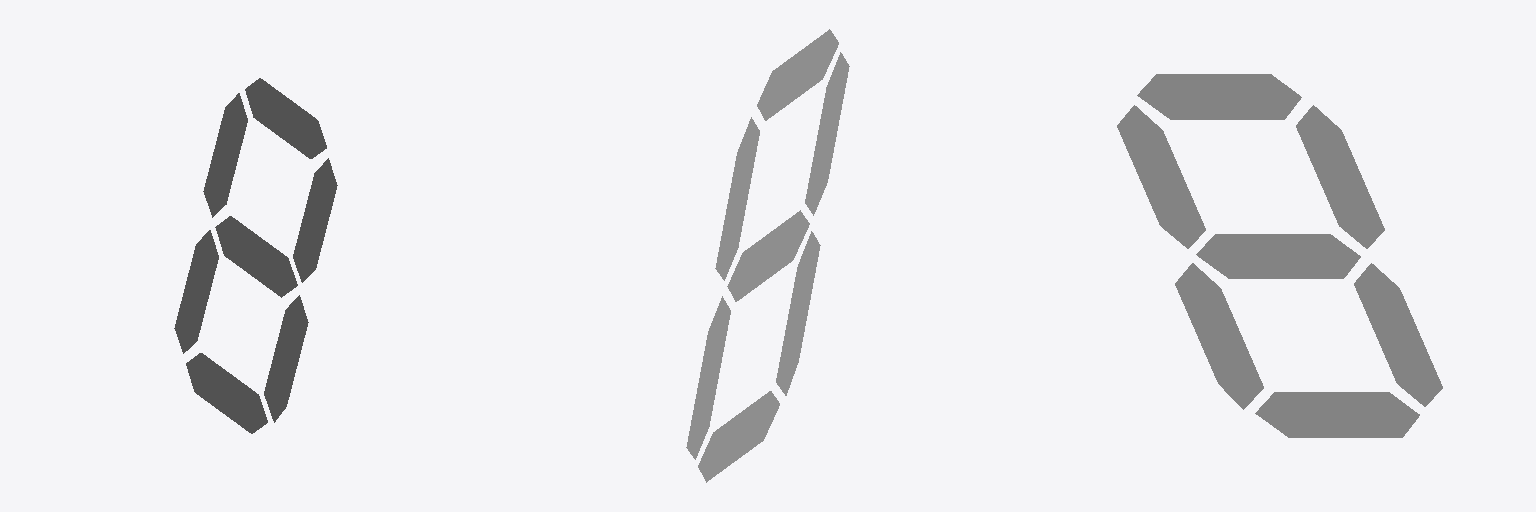
File: lcd.obj
3 renders of one model, left to right at view 1: azimuth 30°, elevation 25°; view 2: azimuth 150°, elevation 25°; view 3: azimuth 270°, elevation 25°, orthographic.
Visible parts, largest first — view 1: Center_Mesh.002, Top_Mesh, Bottom_Mesh.003, BottomRight_Mesh.006, TopRight_Mesh.005, TopLeft_Mesh.004, BottomLeft_Mesh.001; view 2: Center_Mesh.002, Top_Mesh, Bottom_Mesh.003, BottomRight_Mesh.006, TopLeft_Mesh.004, TopRight_Mesh.005, BottomLeft_Mesh.001; view 3: Top_Mesh, Bottom_Mesh.003, Center_Mesh.002, BottomRight_Mesh.006, TopLeft_Mesh.004, BottomLeft_Mesh.001, TopRight_Mesh.005.
Part boxes in pixels (left/top/right/bottom): Center_Mesh.002: left=215, top=216, right=297, bottom=297; Top_Mesh: left=245, top=78, right=326, bottom=158; Bottom_Mesh.003: left=186, top=353, right=267, bottom=433; BottomRight_Mesh.006: left=264, top=295, right=308, bottom=422; TopRight_Mesh.005: left=293, top=158, right=337, bottom=282; TopLeft_Mesh.004: left=203, top=93, right=247, bottom=217; BottomLeft_Mesh.001: left=174, top=230, right=218, bottom=353; Center_Mesh.002: left=727, top=210, right=809, bottom=301; Top_Mesh: left=757, top=29, right=838, bottom=120; Bottom_Mesh.003: left=698, top=391, right=779, bottom=482; BottomRight_Mesh.006: left=776, top=231, right=820, bottom=395; TopLeft_Mesh.004: left=715, top=117, right=759, bottom=280; TopRight_Mesh.005: left=805, top=52, right=849, bottom=215; BottomLeft_Mesh.001: left=686, top=296, right=730, bottom=459; Top_Mesh: left=1137, top=74, right=1301, bottom=119; Bottom_Mesh.003: left=1255, top=392, right=1419, bottom=437; Center_Mesh.002: left=1196, top=234, right=1360, bottom=278; BottomRight_Mesh.006: left=1175, top=263, right=1263, bottom=409; TopLeft_Mesh.004: left=1296, top=105, right=1384, bottom=248; BottomLeft_Mesh.001: left=1354, top=263, right=1442, bottom=406; TopRight_Mesh.005: left=1117, top=105, right=1205, bottom=248.
Bounding box in the file's own units: 0 × 2.38 × 1.94.